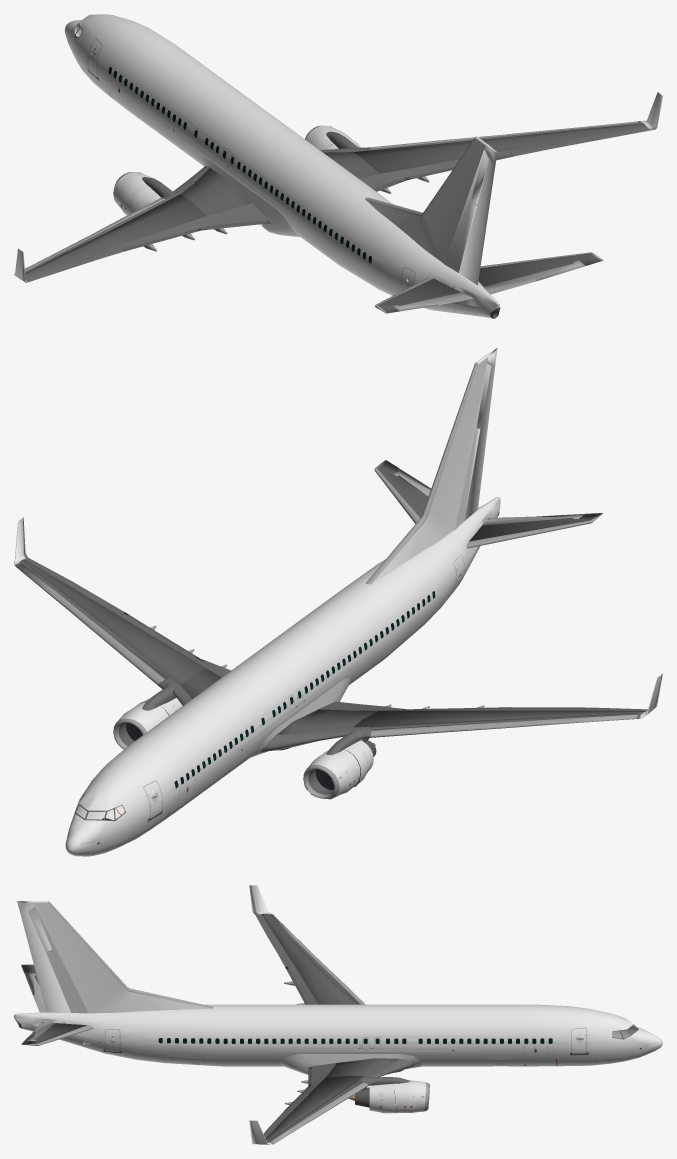
3 views of the same model, one above another, from view 1: azimuth 30°, elevation 25°; view 2: azimuth 150°, elevation 25°; view 3: azimuth 270°, elevation 25° (orthographic). The views are drawn at different scales.
Visible parts, largest first — view 1: rootNode; view 2: rootNode; view 3: rootNode.
Part boxes in pixels (x1,y1,x2,y2): rootNode: (14, 14, 662, 318); rootNode: (14, 347, 662, 856); rootNode: (14, 885, 662, 1144).
Size of the model in its own units: 34.85 by 12.12 by 40.62.
6 materials, 6 textured.
